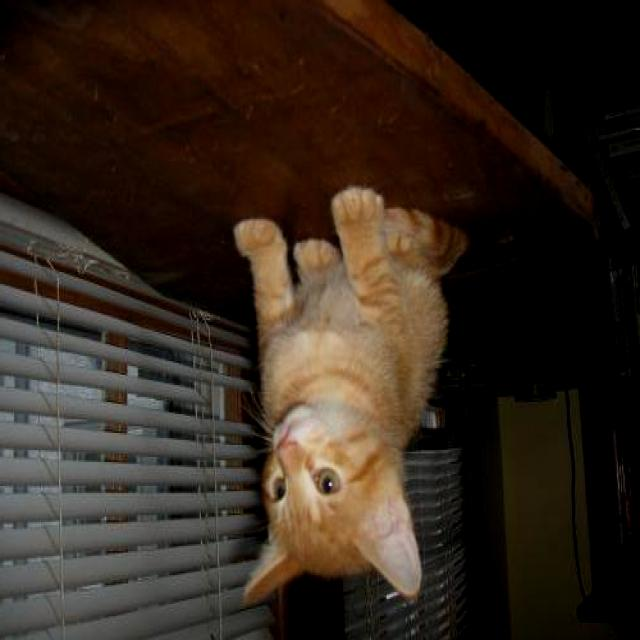Kucing: (196, 134, 482, 620)
